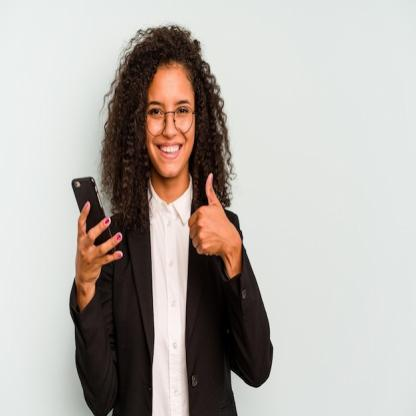thumb_up: (186, 171, 229, 258)
